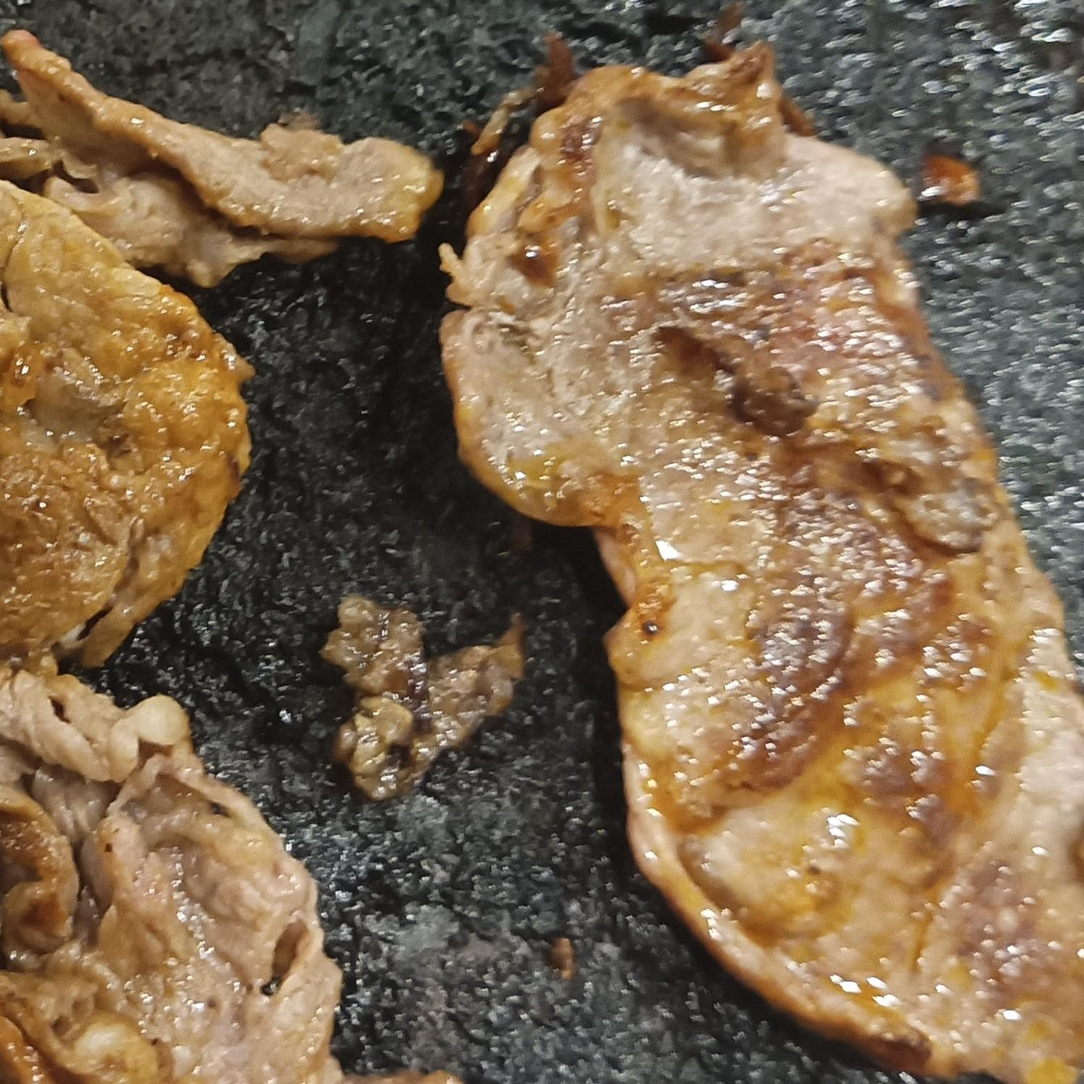Overcooked: (314, 596, 528, 808)
Well-Cooked: (435, 33, 1083, 1083), (0, 670, 344, 1083), (0, 178, 254, 682), (0, 30, 445, 285)
